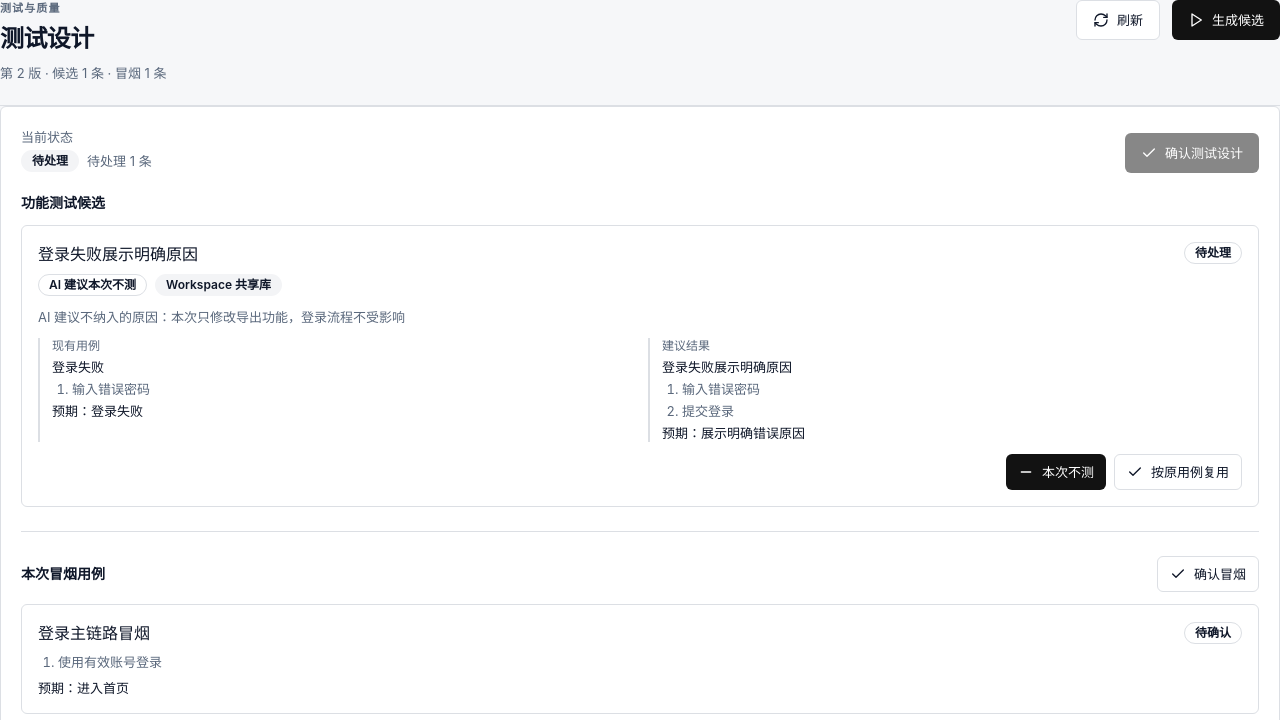
QualityTestDesignPage › makes the exclusion decision explicit when choosing 本次不测
Expected: the element that starts with "登录失败展示明确原因" shows "AI 建议本次不测", [49,276,136,292]
Expected: the text named "处理状态" reads "待处理", [1195,244,1231,260]
Click the button "本次不测": point(1056, 472) [1006,454,1106,490]
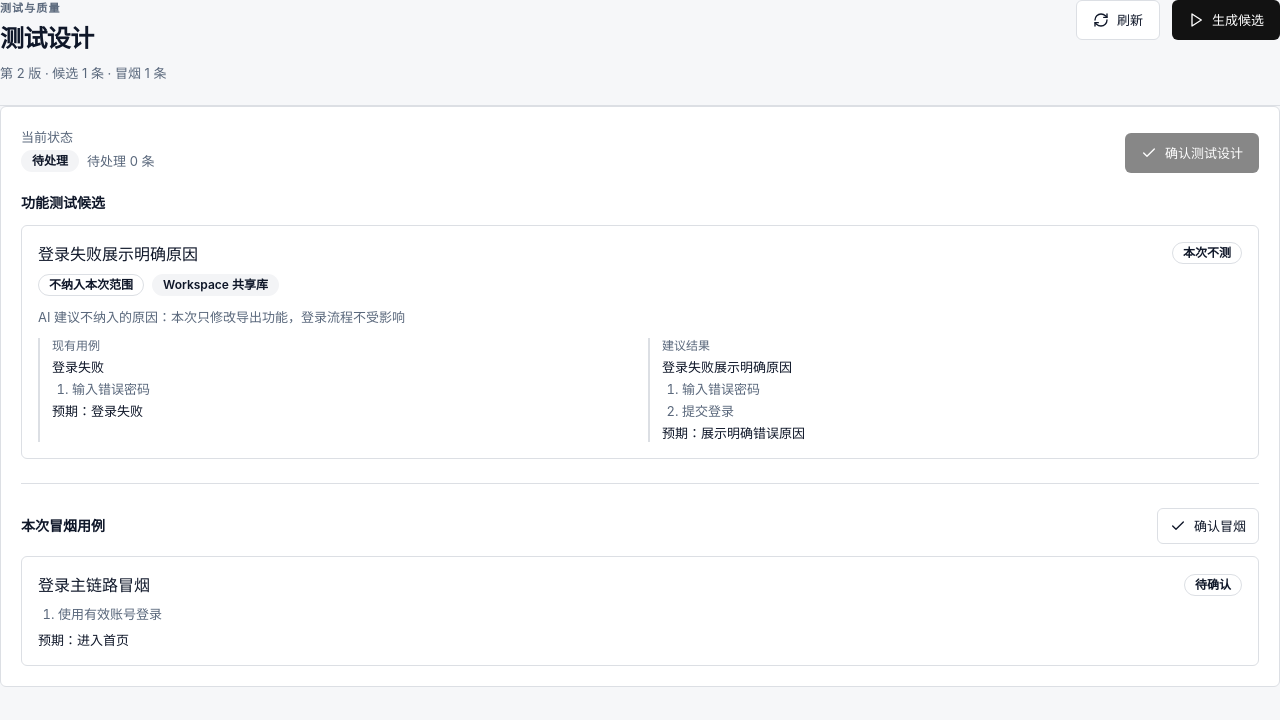
Now the text named "处理状态" reads "本次不测", box [1183,244,1231,260]
